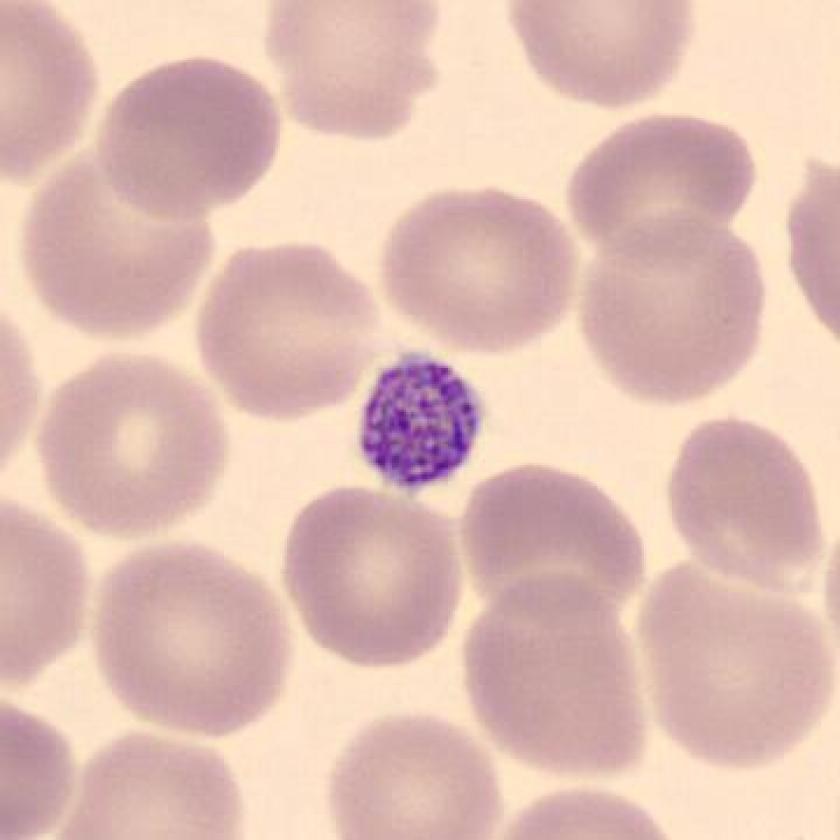platelets: (344, 339, 498, 505)
